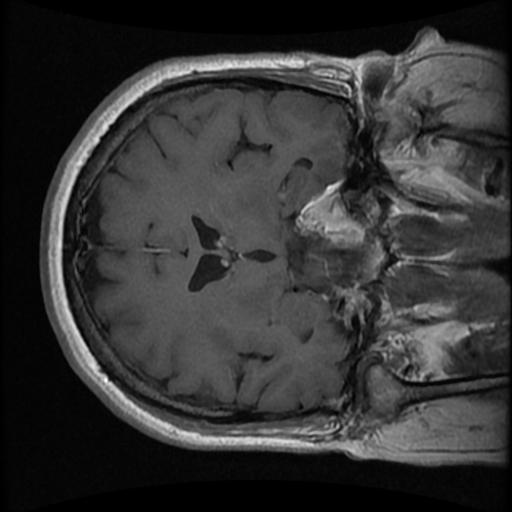meningioma: (296, 181, 365, 249)
